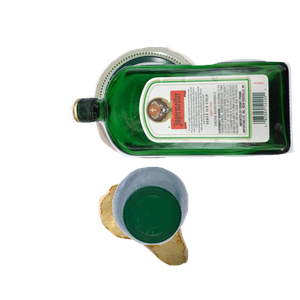glass: (67, 56, 300, 206)
metal: (90, 44, 289, 195)
plastic: (110, 164, 300, 300)
trash: (96, 181, 277, 300)
